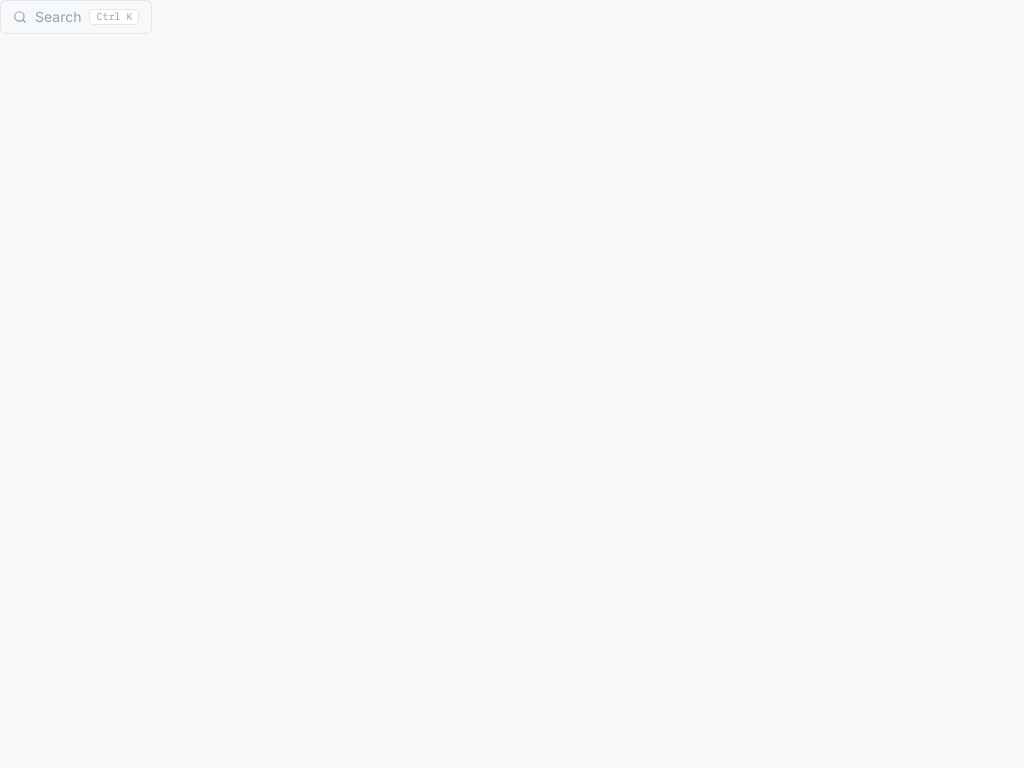
Test: CommandPalette › lists the pages and recent jobs, and filters pages by the typed text
The image size is (1024, 768).
Press k
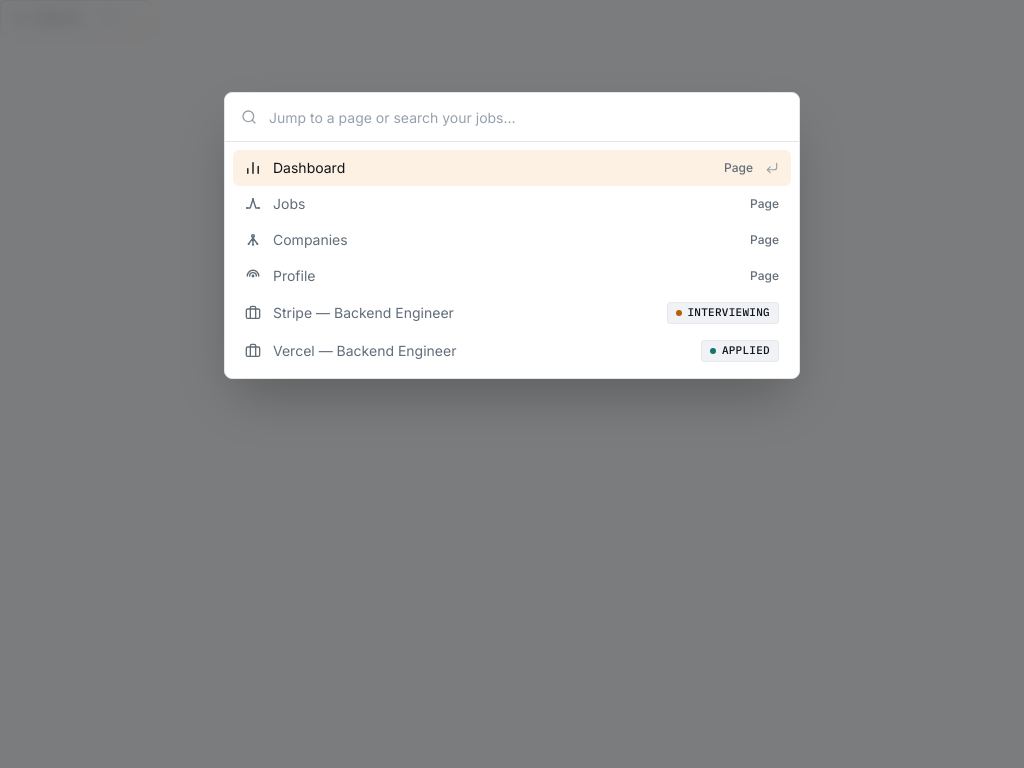
Expected: the option "Stripe — Backend Engineer Interviewing" is shown, [245,302,779,324]
Expected: the option "Companies Page" is shown, [245,231,779,248]
Type "comp" into the dropdown named "Search pages and jobs" at [526, 117], box [269,93,783,141]
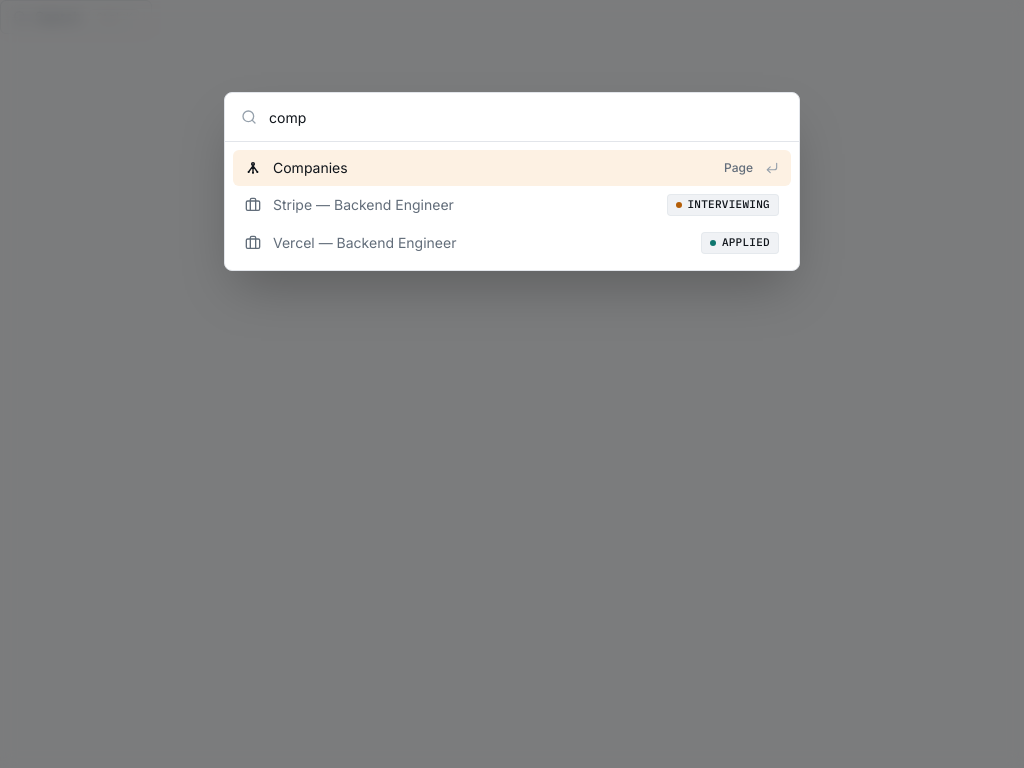
Expected: the option "Companies Page" is shown, [233,150,791,186]
Expected: the option "Dashboard" is gone
